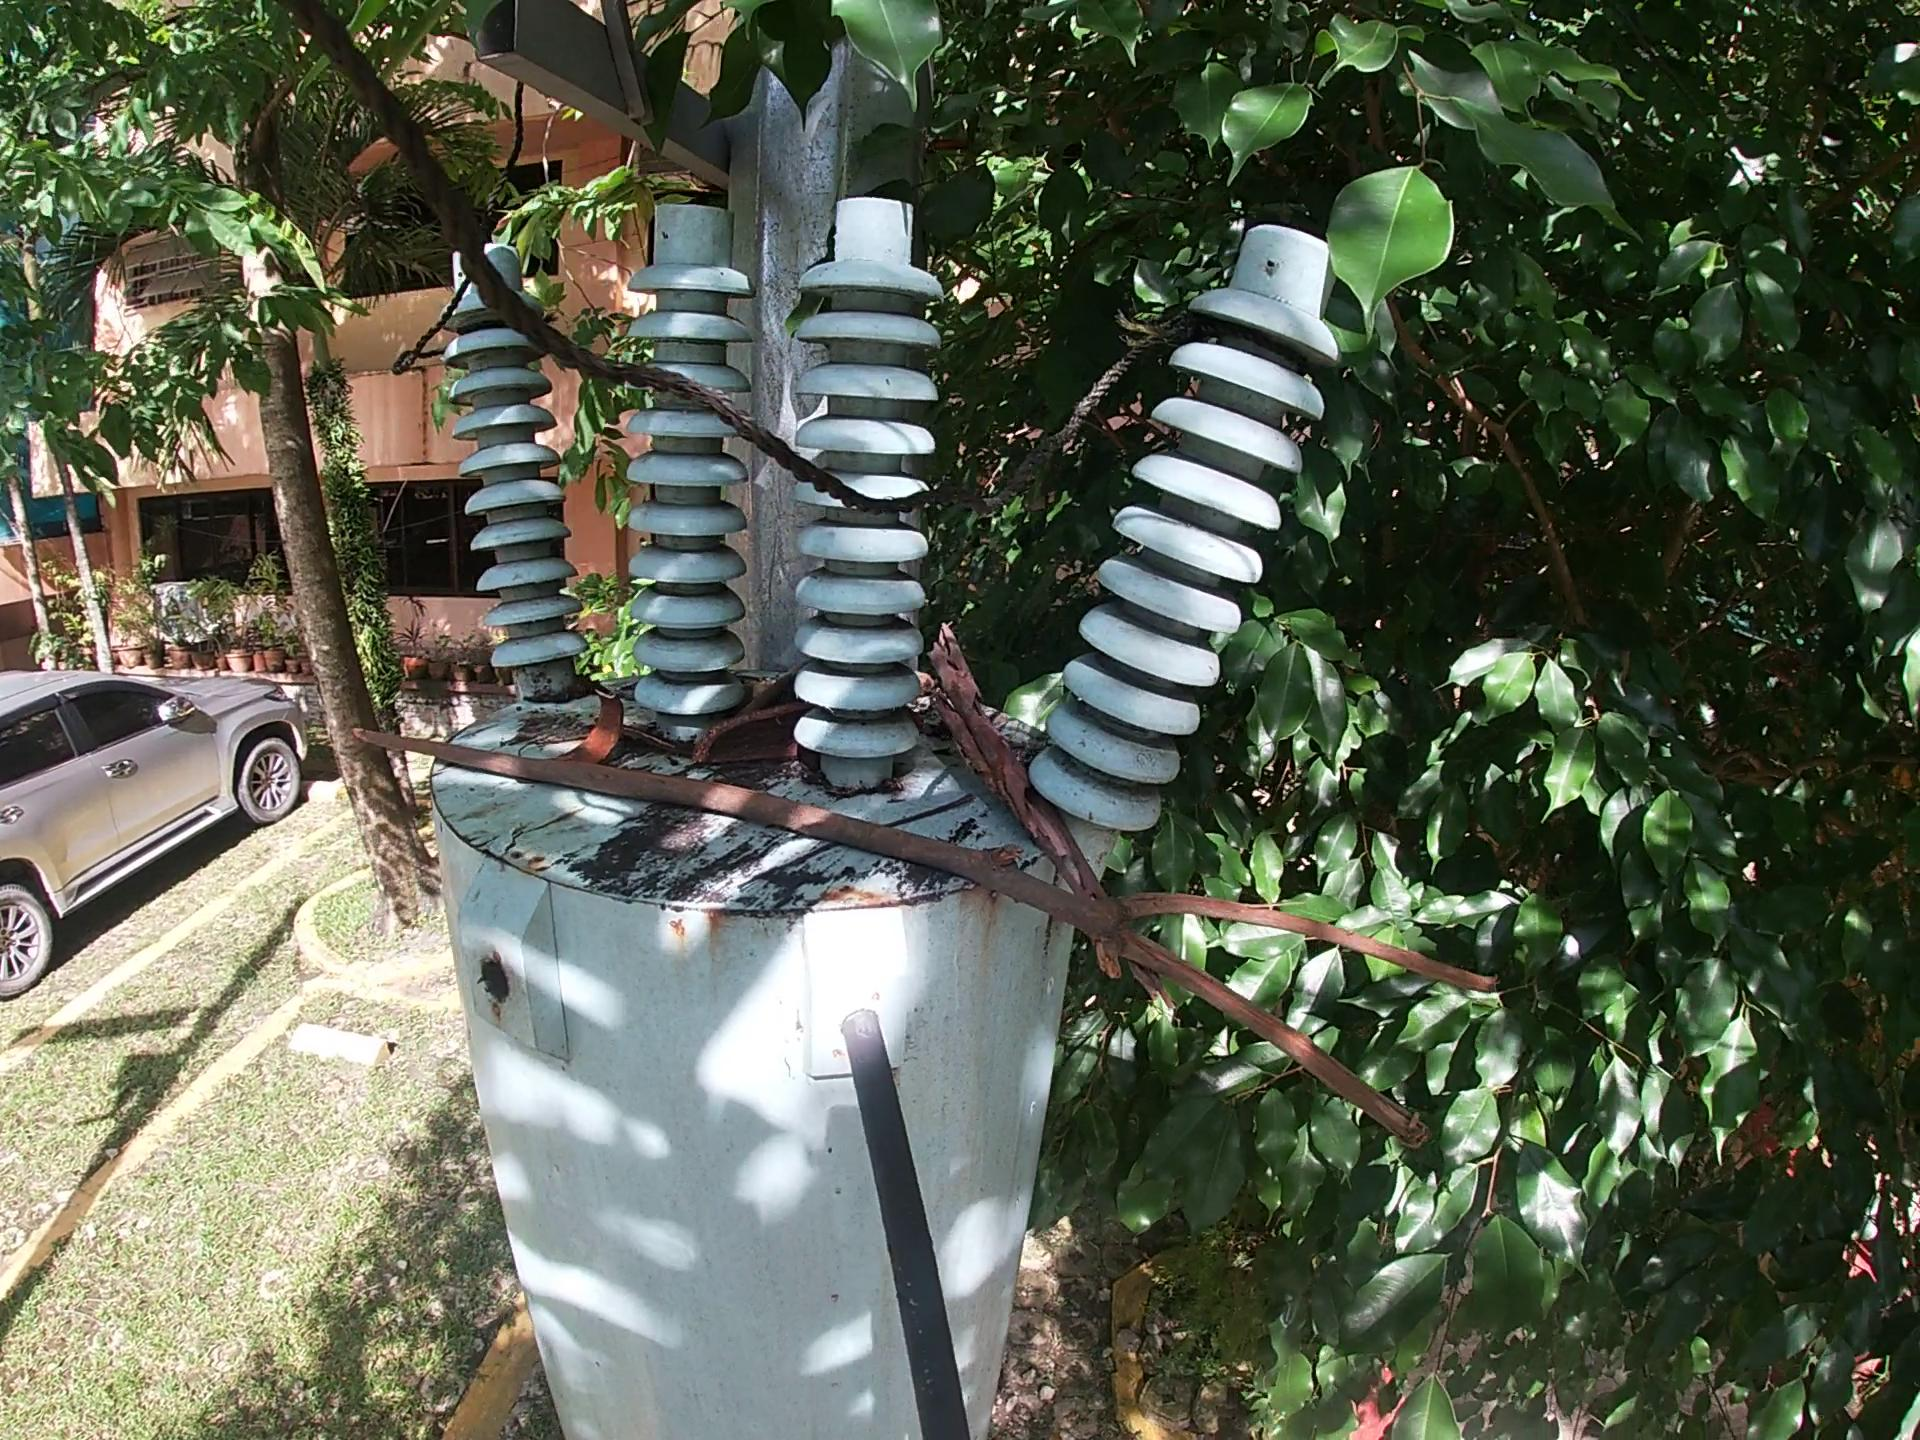mahogany fruit: (688, 700, 818, 784), (550, 688, 639, 768)
tree branch: (342, 715, 1509, 1154), (922, 614, 1184, 1035)
